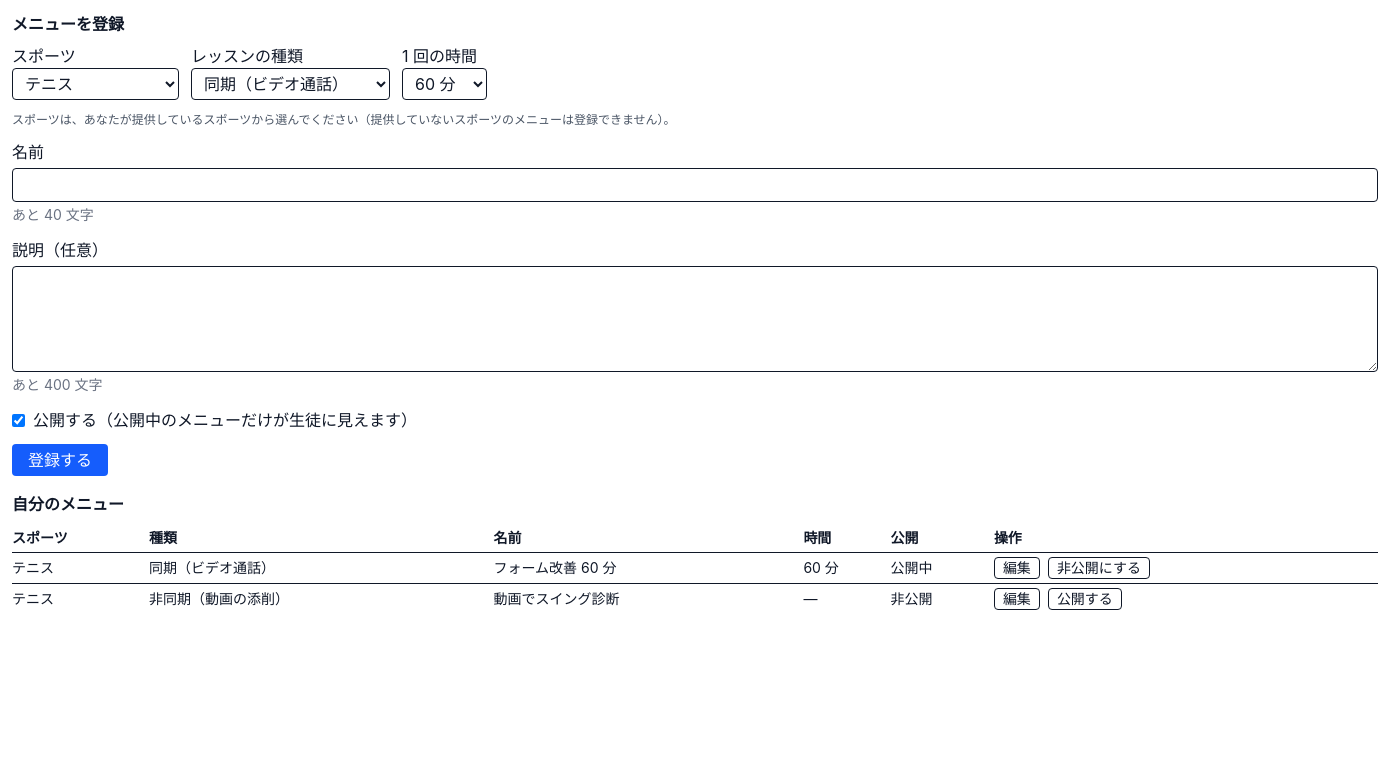
it: レッスンメニュー › 作成: 画面の検査で断った入力は API に送らない
The image size is (1390, 780).
Check: the table named "自分のメニュー" is shown, box [12,524,1378,614]
Click the button "登録する". click: click(60, 460)
box: [12,444,108,476]
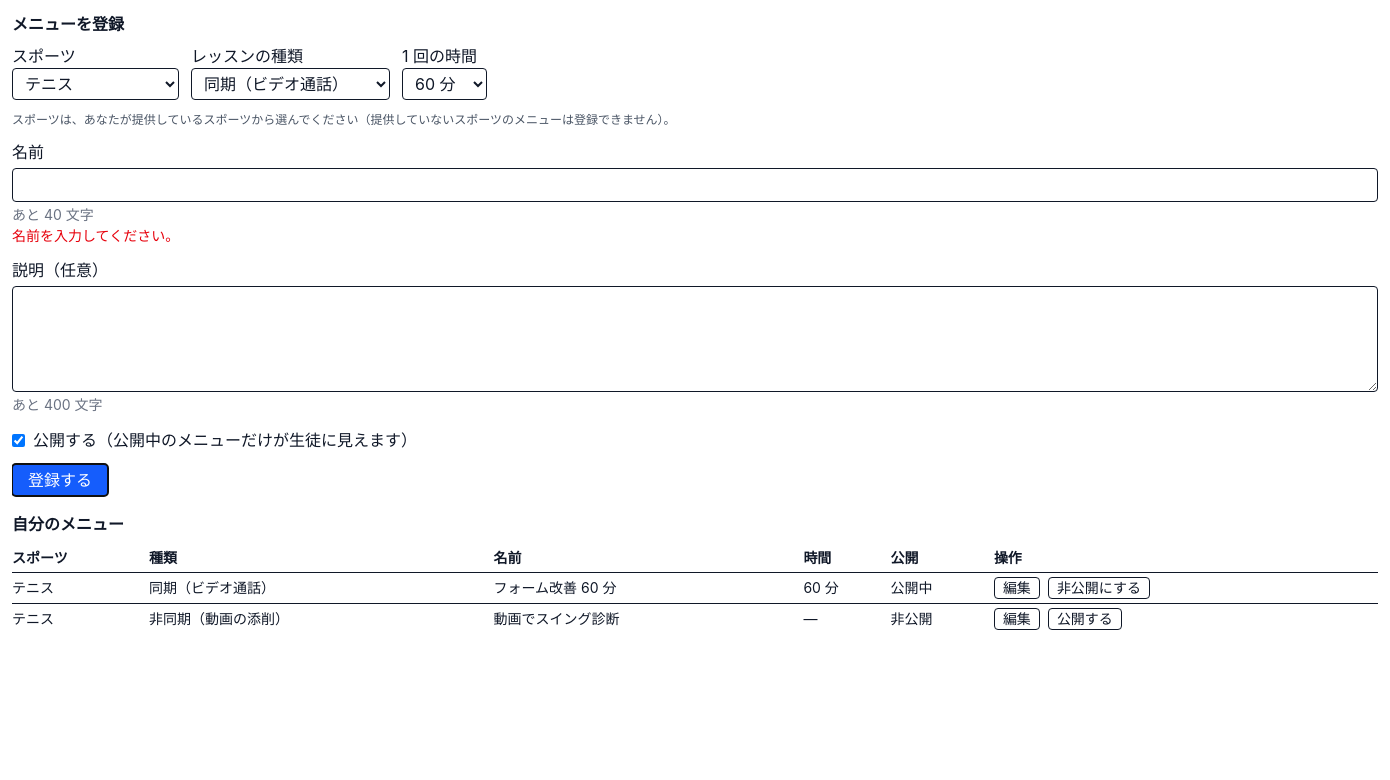
Check: the text "名前を入力してください。" is shown, box [12,227,179,244]
